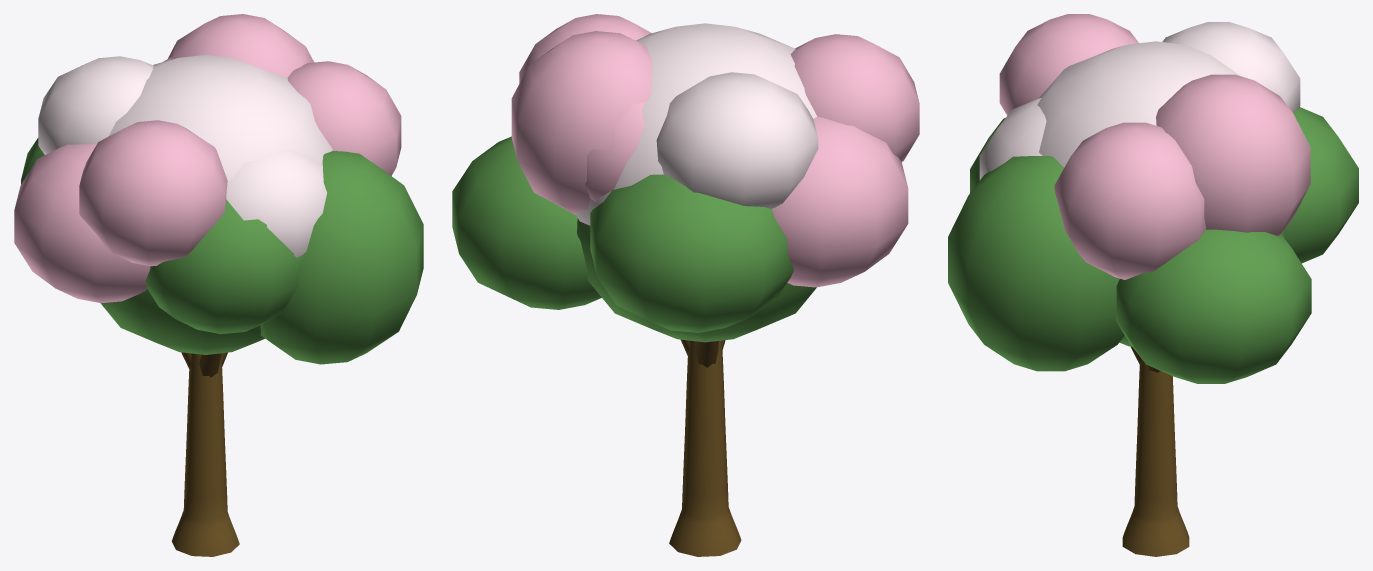
The model's file is crabapple_0.glb.
3 views of the same model, side by side, from view 1: azimuth 30°, elevation 25°; view 2: azimuth 150°, elevation 25°; view 3: azimuth 270°, elevation 25° (orthographic). The views are drawn at different scales.
Visible parts, largest first — view 1: crown, trunk; view 2: crown, trunk; view 3: crown, trunk.
Boxes of the visible parts, x1,y1,x2,y2 form: crown: (14, 14, 423, 377); trunk: (171, 353, 239, 556); crown: (452, 14, 919, 367); trunk: (669, 340, 741, 556); crown: (948, 14, 1358, 383); trunk: (1122, 359, 1189, 556).
Bounding box in the file's own units: 1.87 × 2.3 × 1.74.
